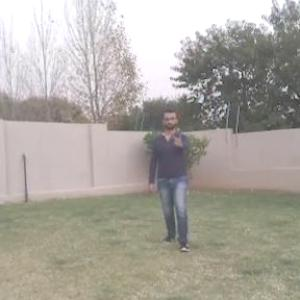takeoff-hand: (172, 128, 187, 153)
